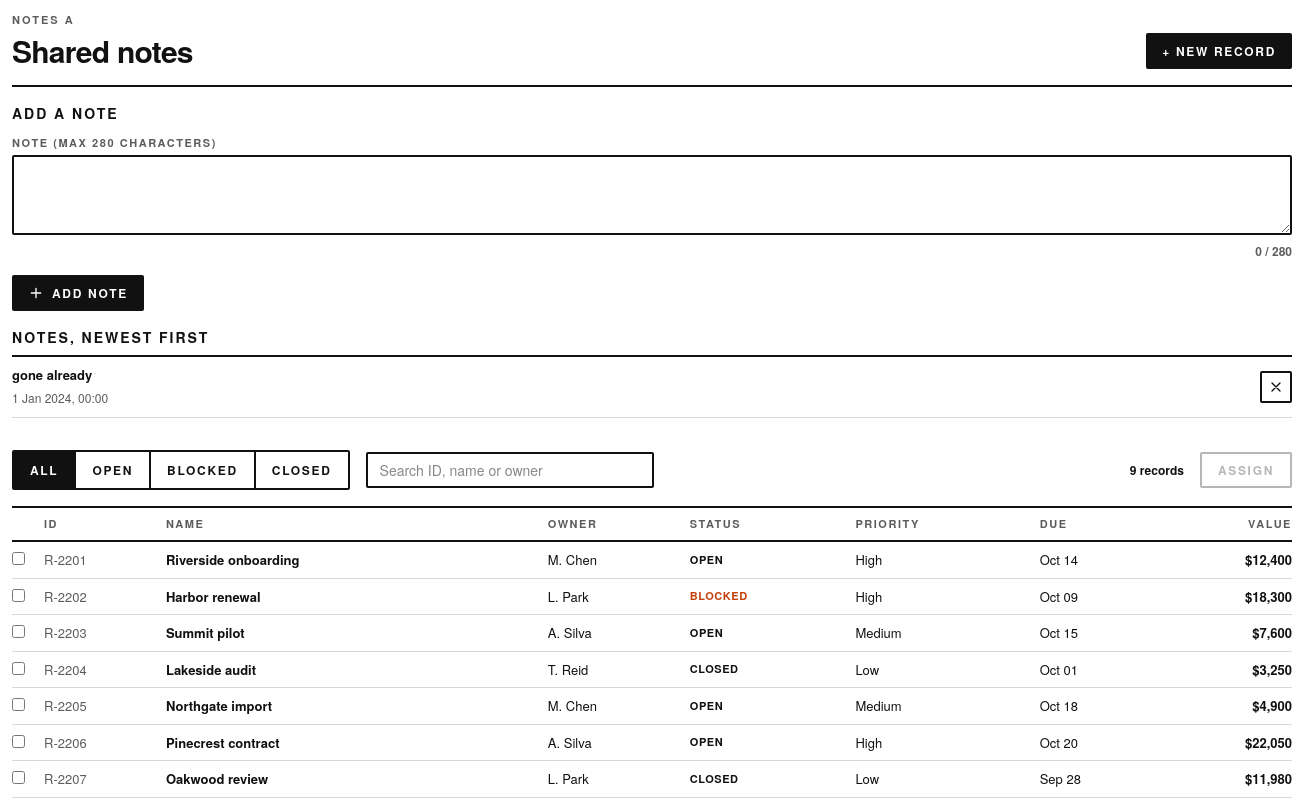
Test case: Notes screen › [AC-017 / NFR-007] a 404 on delete refetches the list instead of crashing
expect the text "gone already" is shown: met, box [12,365,92,384]
Click the button named "delete note: gone already" at (1276, 387), box [1260,371,1292,403]
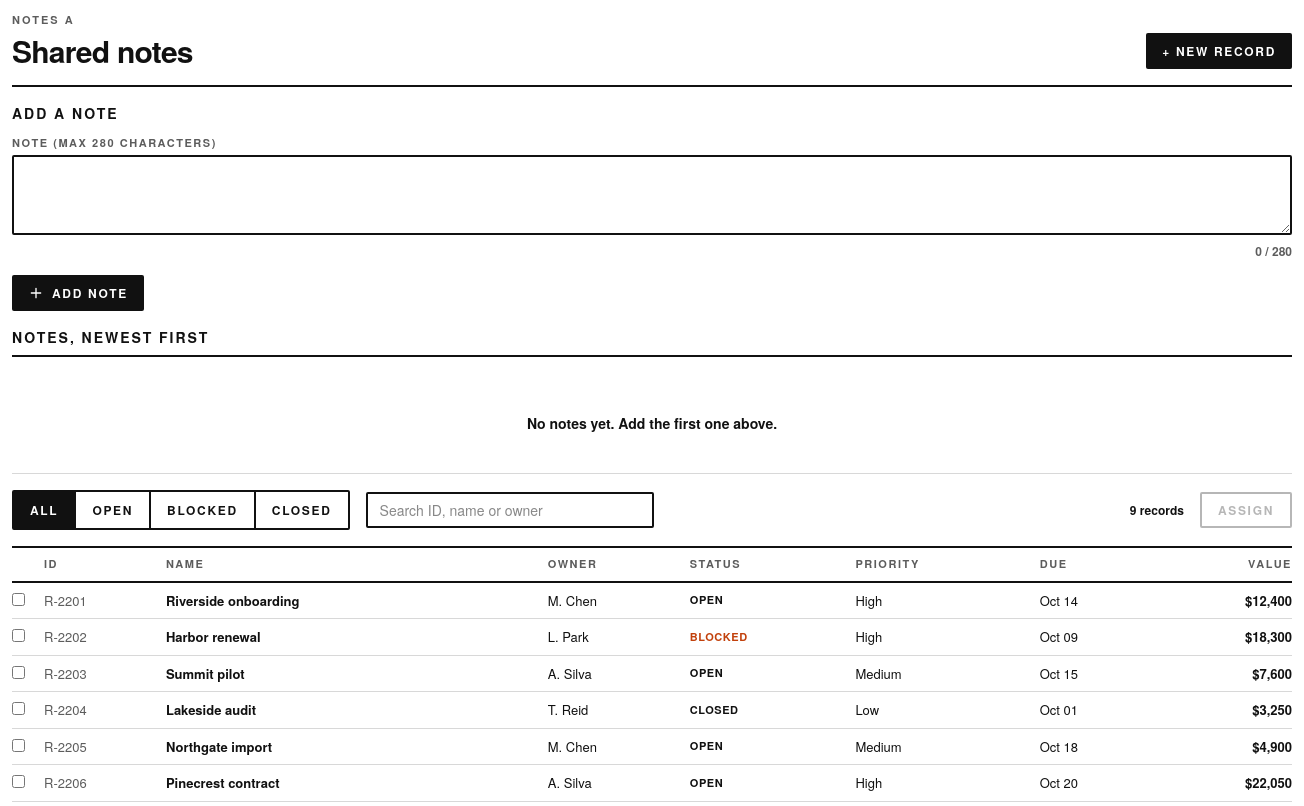
expect the text "No notes yet. Add the first one above." is shown: met, box [12,373,1292,474]
